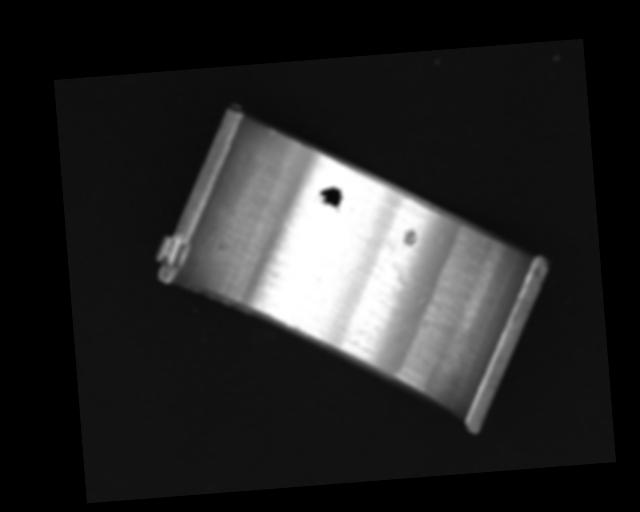blot: (311, 185, 344, 213)
bruise: (400, 227, 418, 248)
nick: (265, 127, 275, 140)
